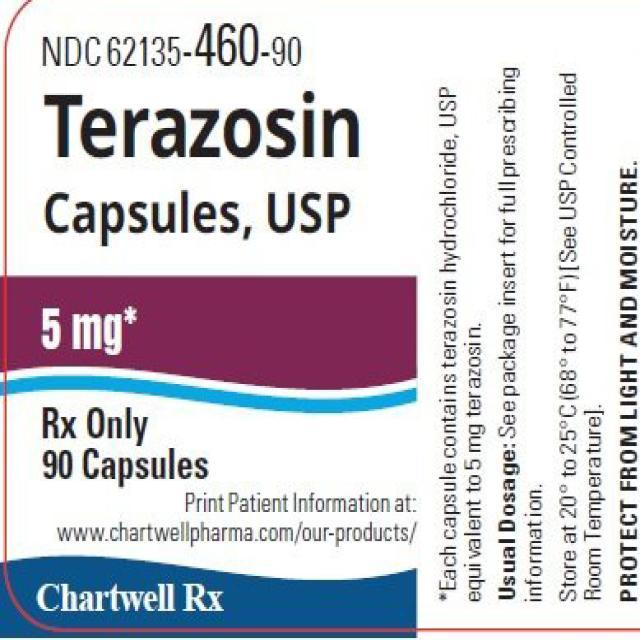drug-name: (41, 82, 363, 168)
